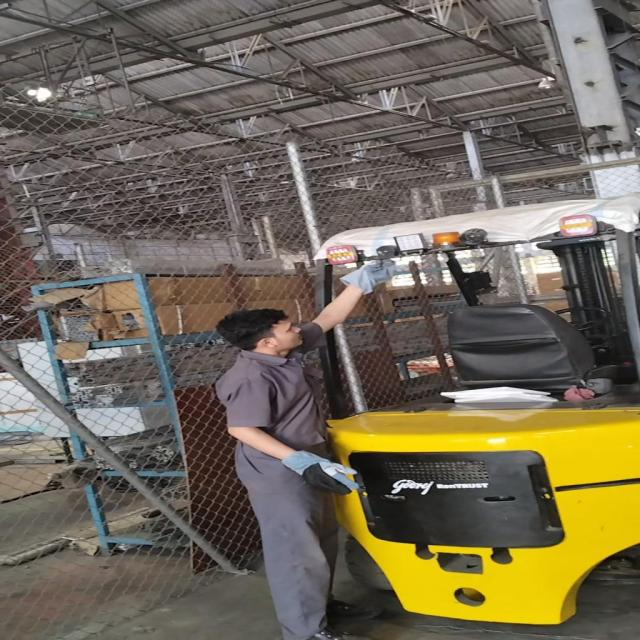Gloves-Detection: (282, 446, 363, 500), (333, 251, 389, 300)
